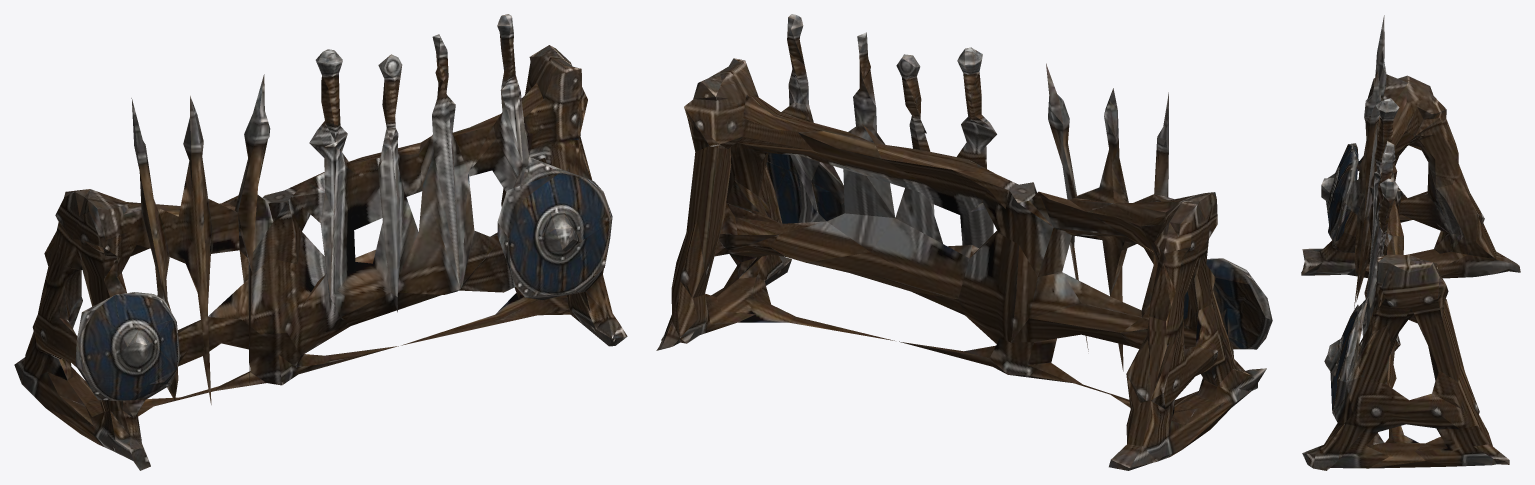
The model's file is war_weapon_rack.glb.
3 views of the same model, side by side, from view 1: azimuth 30°, elevation 25°; view 2: azimuth 150°, elevation 25°; view 3: azimuth 270°, elevation 25° (orthographic). The views are drawn at different scales.
Parts seen in each view (by area): view 1: output_unwrapped; view 2: output_unwrapped; view 3: output_unwrapped.
Part boxes in pixels (x1,y1,x2,y2): output_unwrapped: (14,14,627,470); output_unwrapped: (656,14,1272,470); output_unwrapped: (1301,15,1520,470).
Bounding box in the file's own units: 1.88 × 1.1 × 0.7849.
Materials: 1 (1 with a texture image).
